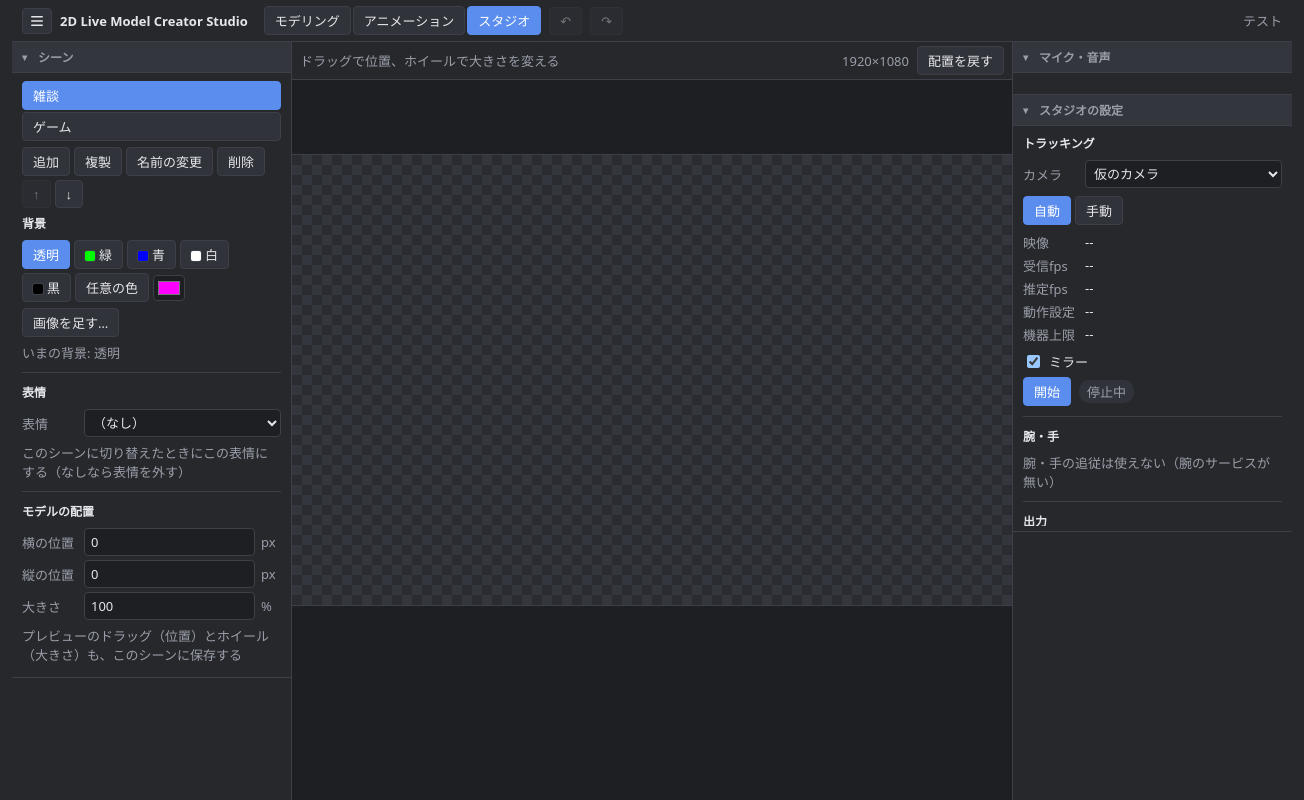
シーンごとの背景と配置 › 背景プリセットと配置はシーンごとに保たれ、実行部は使っているシーンのものを使う
The width and height of the screenshot is (1304, 800).
Click the button "緑" at (98, 254), box [74,240,123,269]
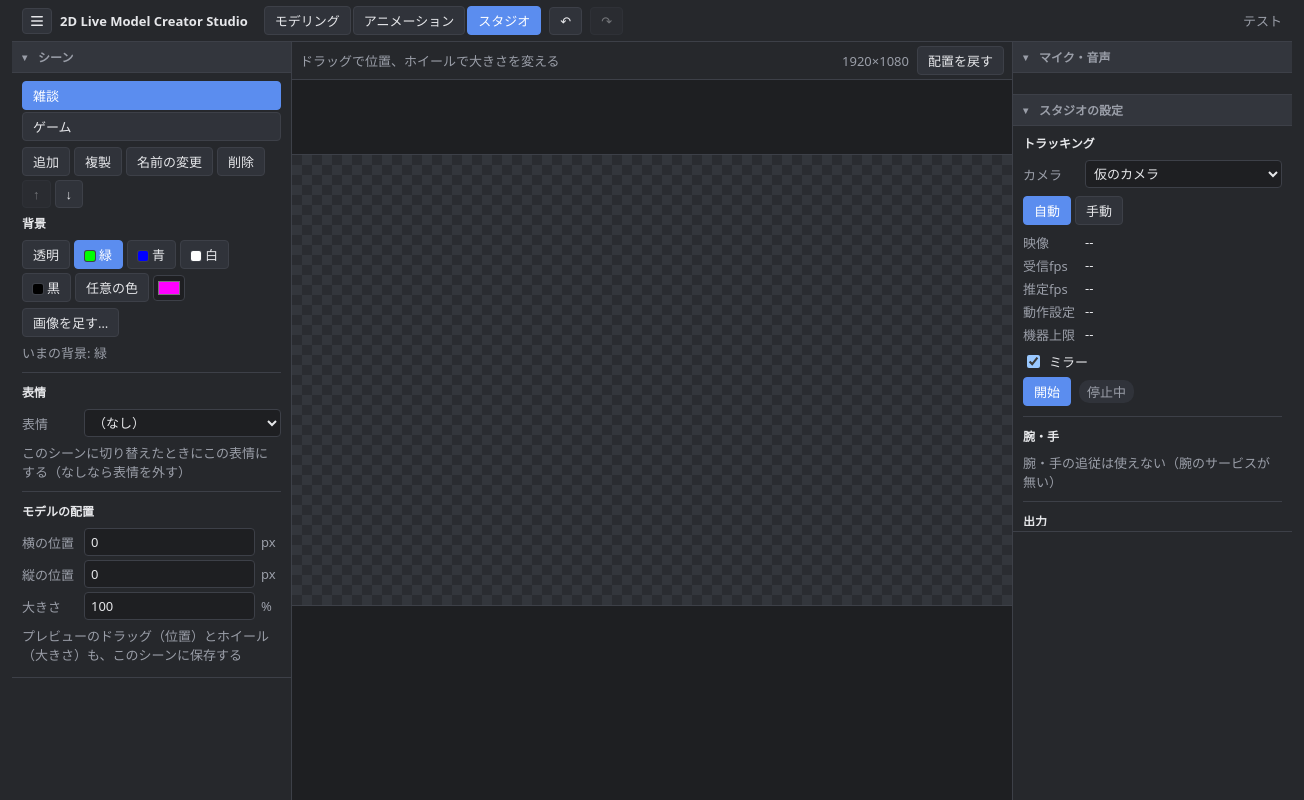
Replace the text in the number field labelled "横の位置" with "120" at (170, 542), box [84,528,255,556]
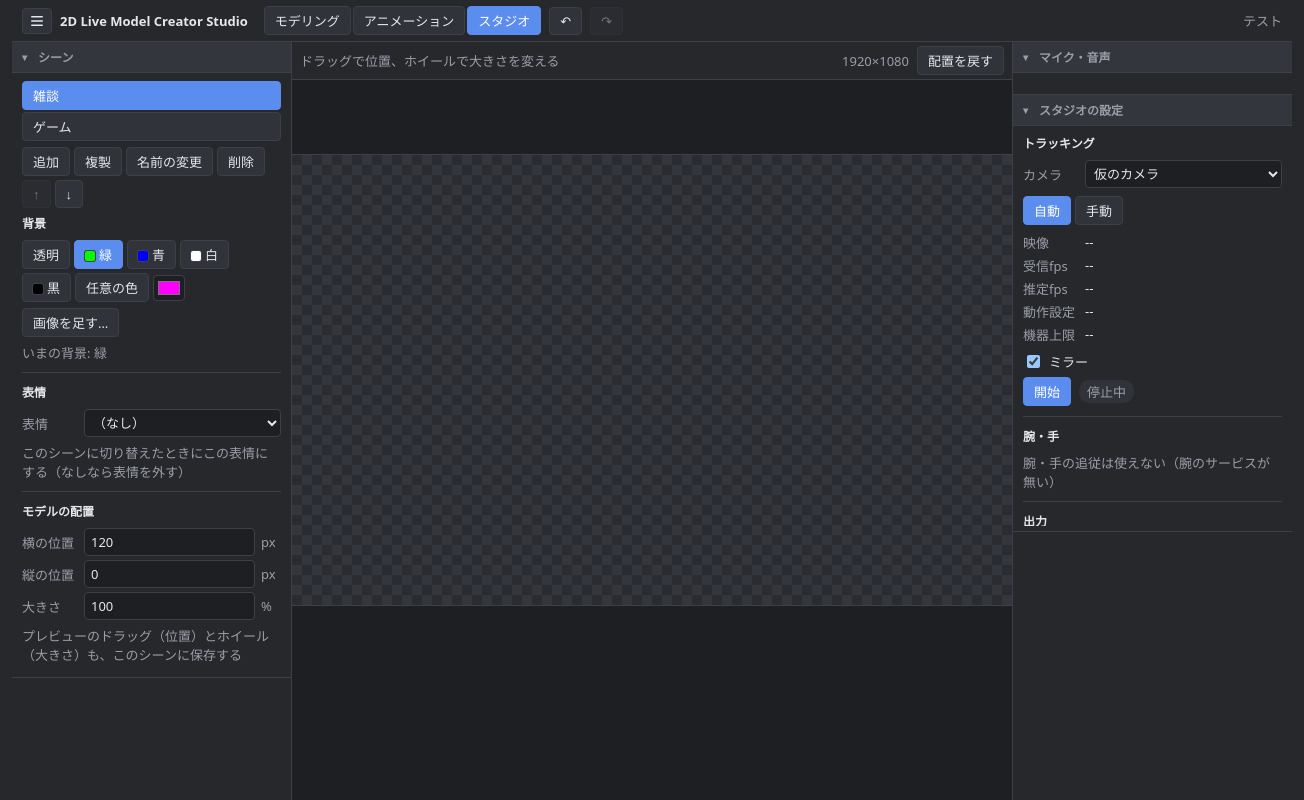
Press Enter in the number field labelled "横の位置", box [84,528,255,556]
Replace the text in the number field labelled "大きさ" with "150" at (170, 606), box [84,592,255,620]
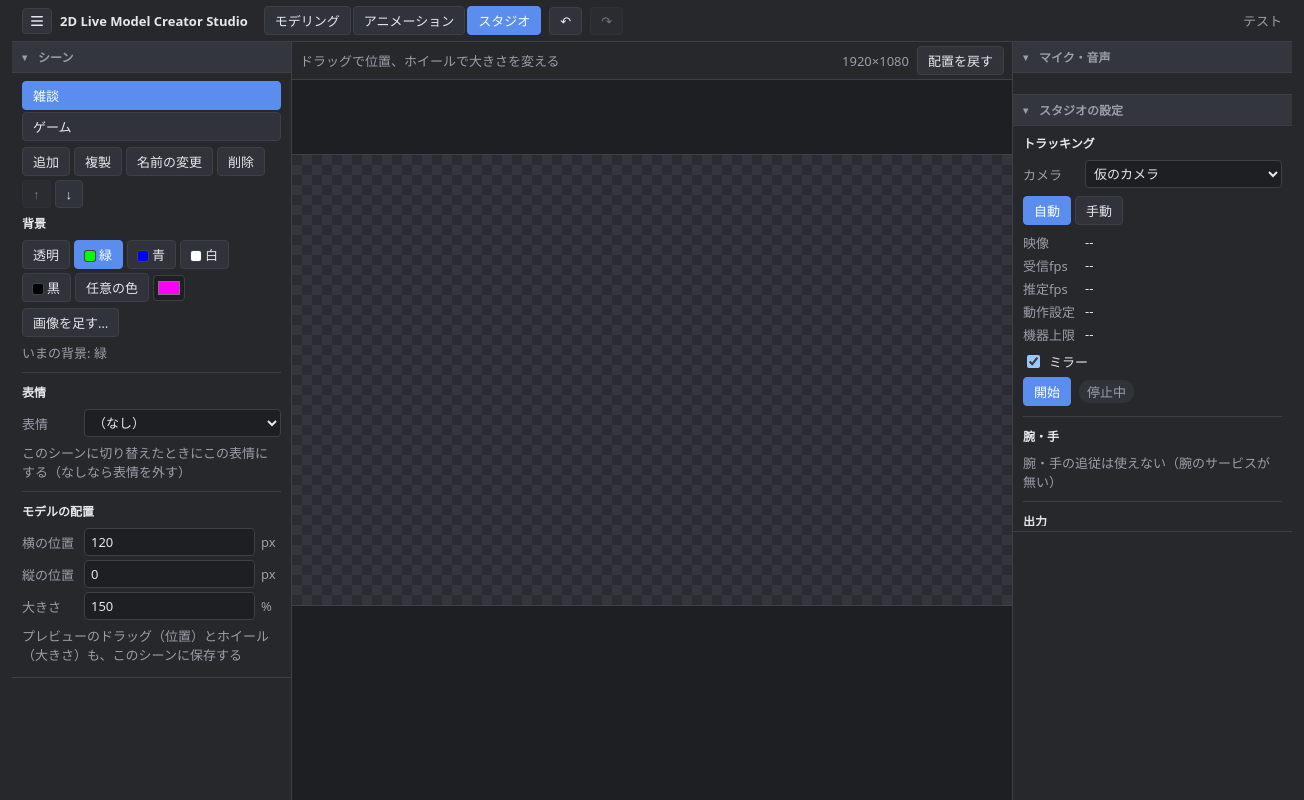
Click the button "ゲーム" at (152, 126), box [22,112,281,141]
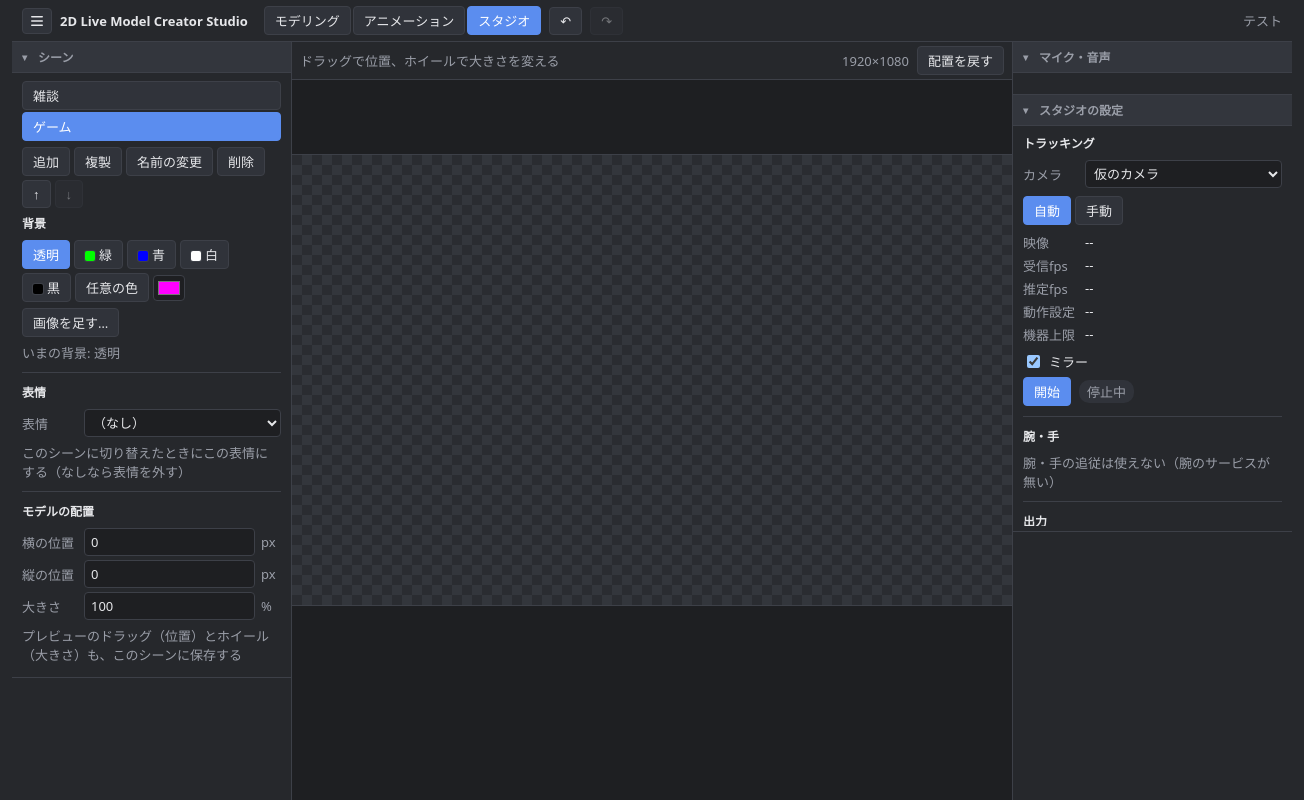
Check: the number field labelled "横の位置" holds "0", box [84,528,255,556]
Click the button "黒" at (46, 288), box [22,273,71,302]
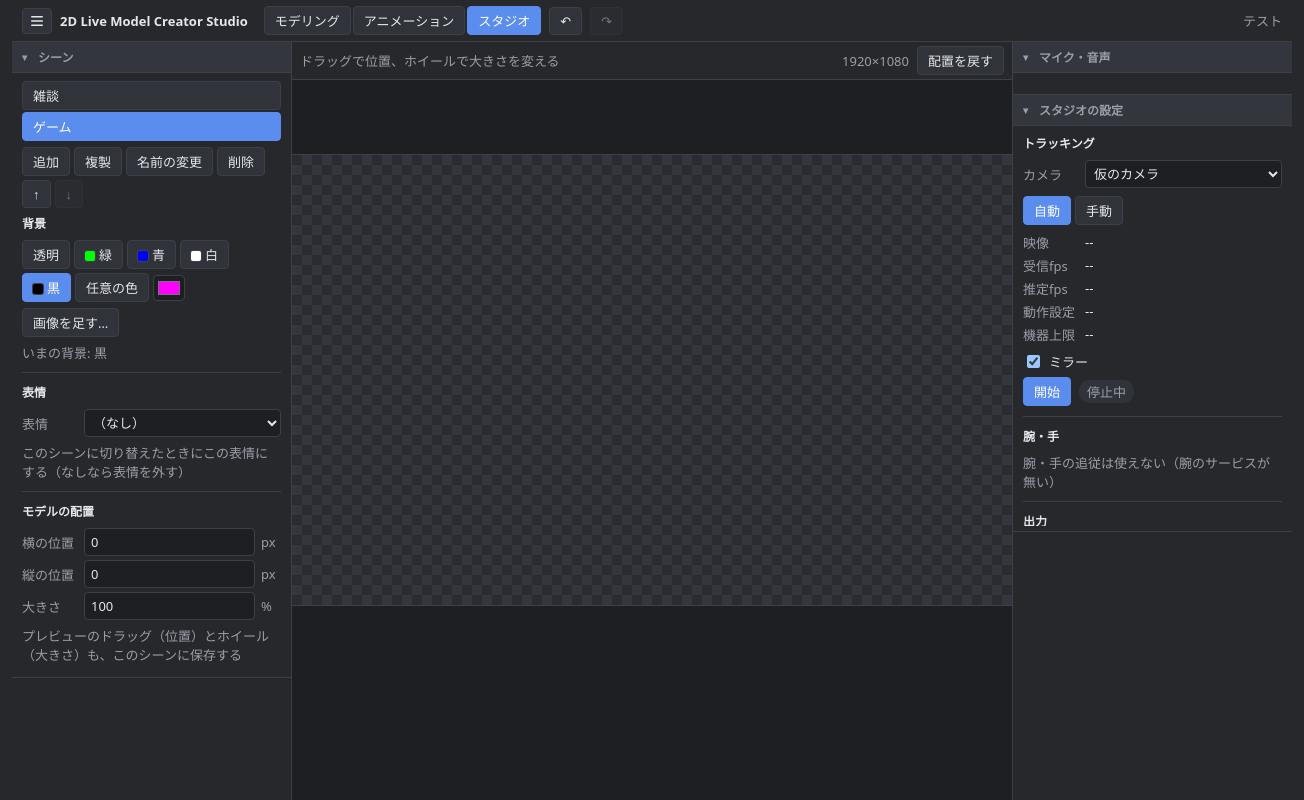
Click the button "雑談" at (152, 96), box [22,81,281,110]
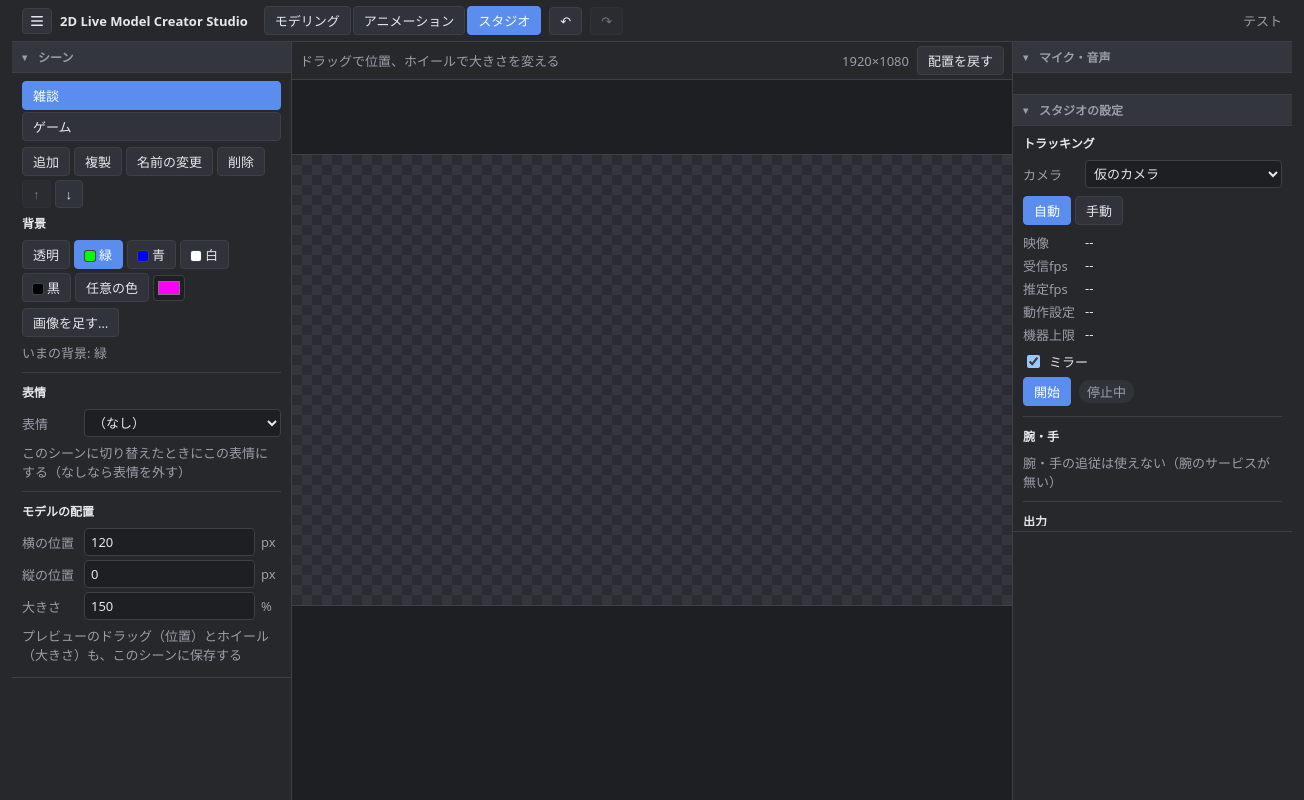
Check: the text labelled "いまの背景" reads "いまの背景: 緑", box [22,344,107,362]
